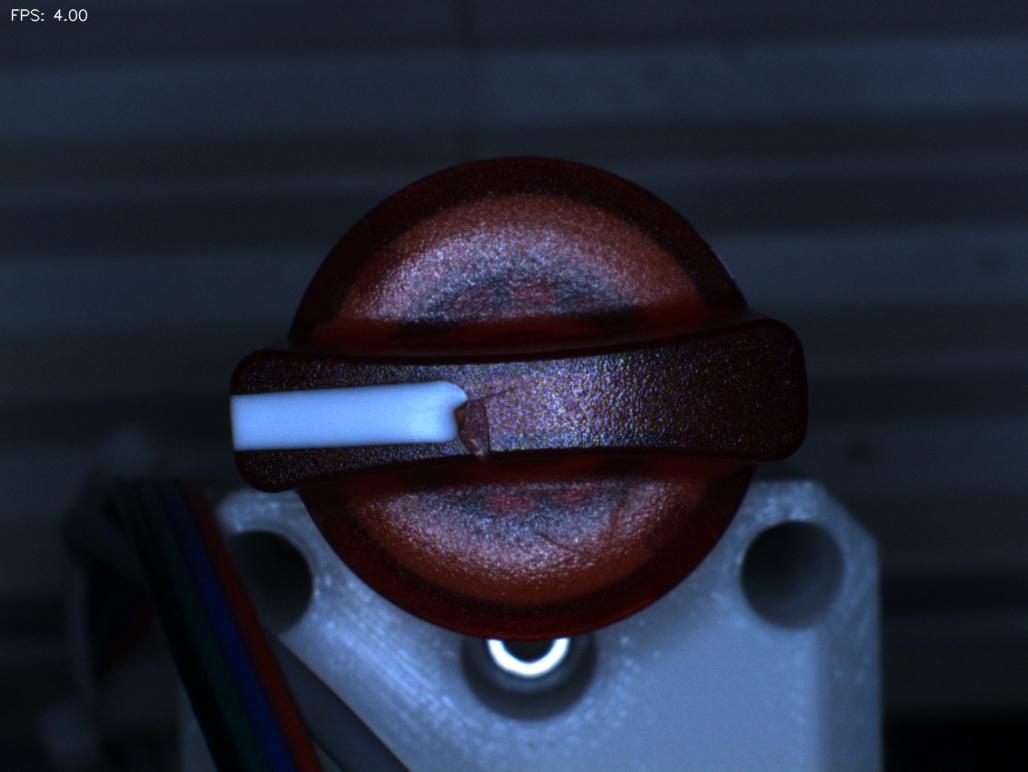Choc: (421, 380, 527, 472)
